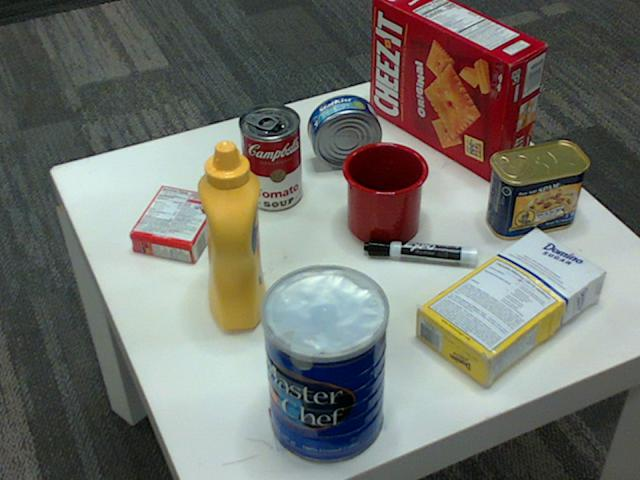cracker_box: (369, 0, 546, 182)
gelatin_box: (127, 182, 220, 260)
large_marker: (364, 239, 478, 269)
master_chef_can: (259, 267, 388, 466)
mug: (339, 140, 427, 245)
mustard_bottle: (195, 141, 264, 330)
potted_meat_can: (485, 142, 587, 241)
sugar_box: (412, 228, 603, 388)
tomato_soup_can: (238, 104, 301, 211)
tuna_fish_can: (306, 94, 380, 168)
